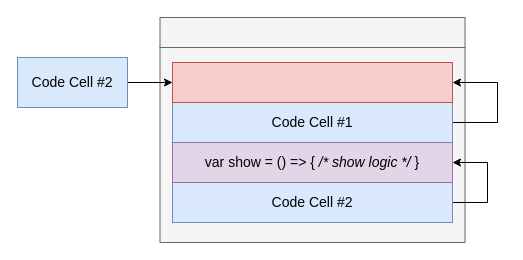
The diagram is 523 pixels wide and 260 high, and some of its shapes have lost their labels. Each missing label, with the centre of its shape:
"Joining Step" belongs at [312,32].
"var show = () => { /* nothing! */ }" belongs at [312,82].
